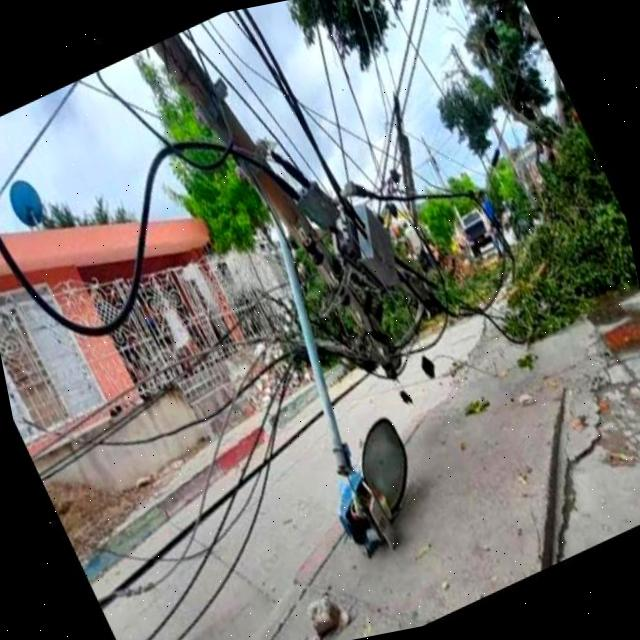Broken Pole: (148, 33, 424, 547)
